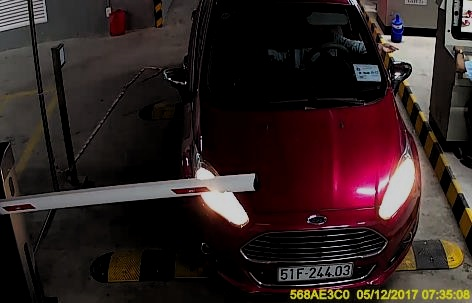plate: (277, 262, 356, 283)
